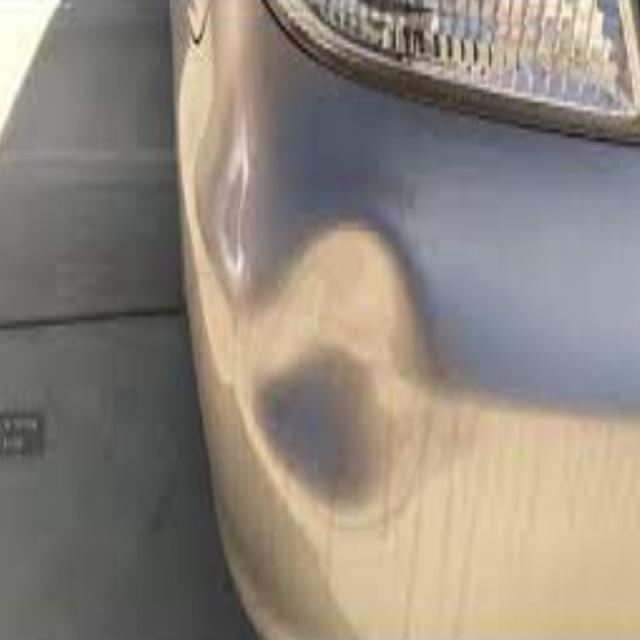dents: (251, 173, 447, 546)
